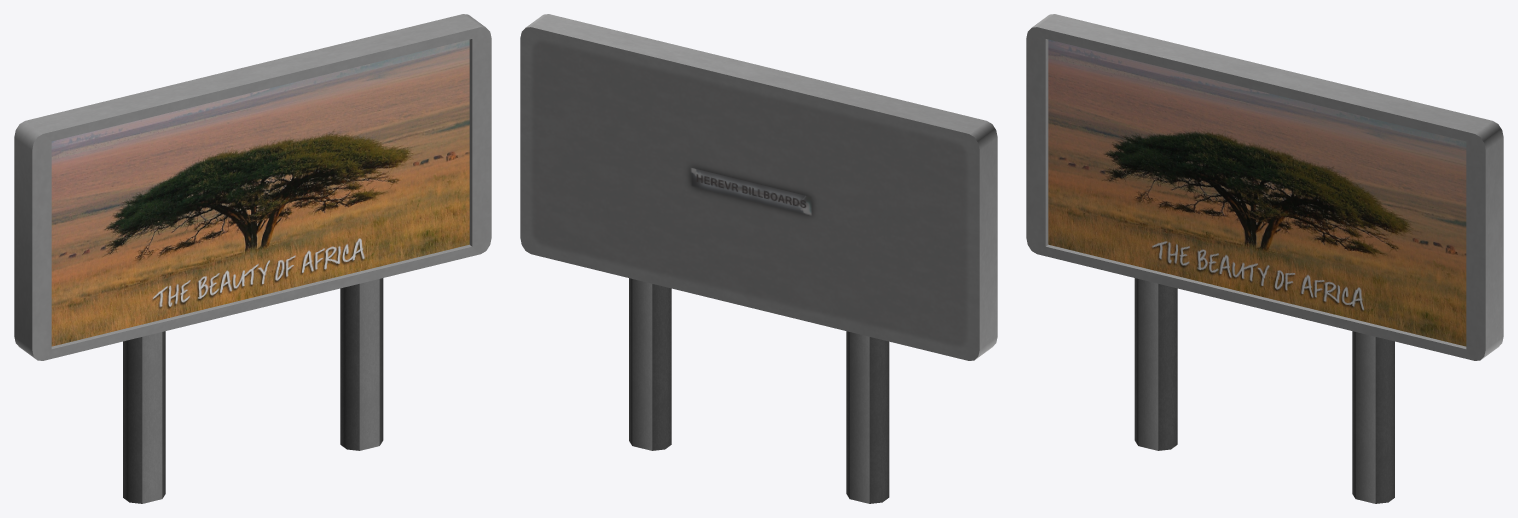
Rendered from RT BillB V02.FBX.
The picture shows the model from 3 angles, left to right: view 1: azimuth 30°, elevation 25°; view 2: azimuth 150°, elevation 25°; view 3: azimuth 330°, elevation 25°; orthographic projection.
Parts seen in each view (by area): view 1: RT BillB V02A C01; view 2: RT BillB V02A C01; view 3: RT BillB V02A C01.
Part boxes in pixels (box(x1,y1,x2,y2)): RT BillB V02A C01: box(14, 14, 491, 503); RT BillB V02A C01: box(520, 14, 997, 503); RT BillB V02A C01: box(1026, 14, 1503, 503).
Size of the model in its own units: 11.01 by 9.05 by 0.7439.
Materials: 1 (1 with a texture image).
